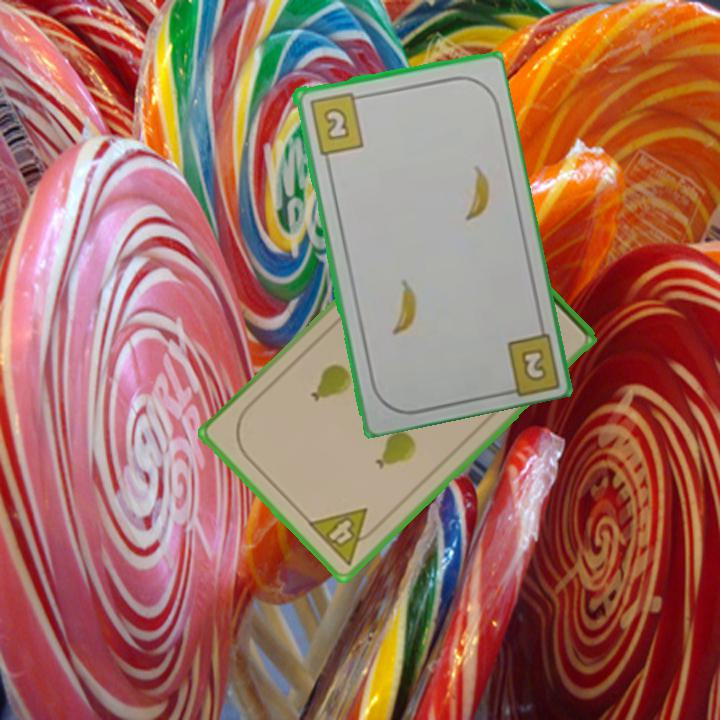2b: (305, 88, 367, 157), (517, 344, 550, 385)
4p: (304, 504, 385, 569)
